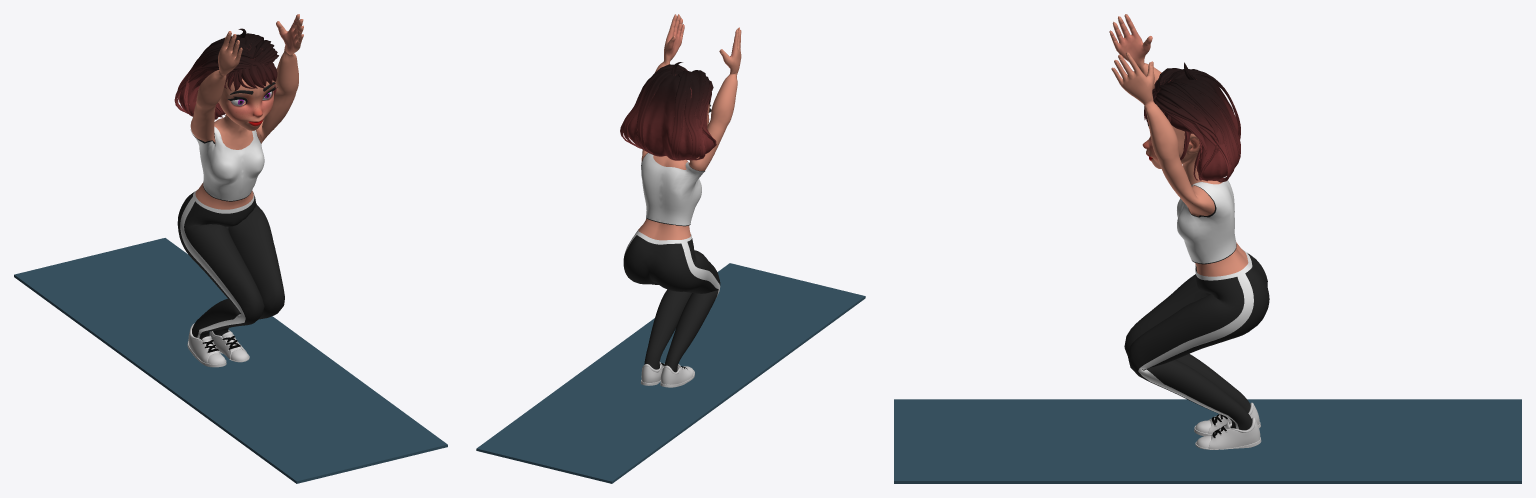
The model's file is utkatasana.glb.
3 renders of one model, left to right at view 1: azimuth 30°, elevation 25°; view 2: azimuth 150°, elevation 25°; view 3: azimuth 270°, elevation 25°, orthographic. The views are drawn at different scales.
Parts seen in each view (by area): view 1: Cube, BOT, base, hair, TOP, shoes; view 2: Cube, BOT, hair, base, TOP, shoes; view 3: Cube, BOT, base, hair, TOP, shoes.
Boxes of the visible parts, box(x1,y1,x2,y2) form: Cube: box(14, 238, 447, 483); BOT: box(177, 190, 284, 339); base: box(190, 14, 303, 209); hair: box(174, 28, 278, 119); TOP: box(190, 126, 264, 201); shoes: box(187, 323, 249, 367); Cube: box(476, 263, 865, 483); BOT: box(623, 229, 720, 372); hair: box(620, 62, 716, 160); base: box(638, 14, 741, 240); TOP: box(641, 152, 704, 226); shoes: box(641, 362, 694, 387); Cube: box(894, 399, 1521, 483); BOT: box(1124, 249, 1269, 430); base: box(1109, 14, 1248, 276); hair: box(1144, 62, 1240, 182); TOP: box(1177, 177, 1236, 264); shoes: box(1194, 402, 1261, 449).
Size of the model in its own units: 4.93 by 11.47 by 15.97.
Materials: 11 (2 with a texture image).
